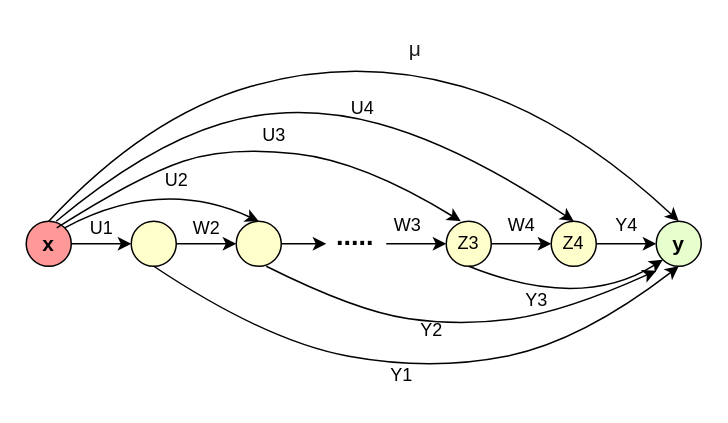
Some shapes in this 728 by 423 pixel diagram are drawn without their labels. Here are the shapes that lost their labels. From the top down, the centre of each, then its label:
point (153, 243): Z1
point (258, 243): Z2
